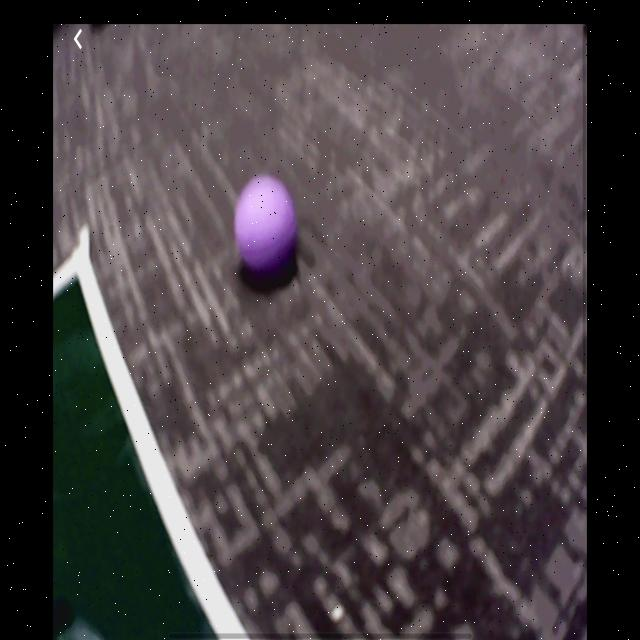ball: (234, 173, 299, 278)
